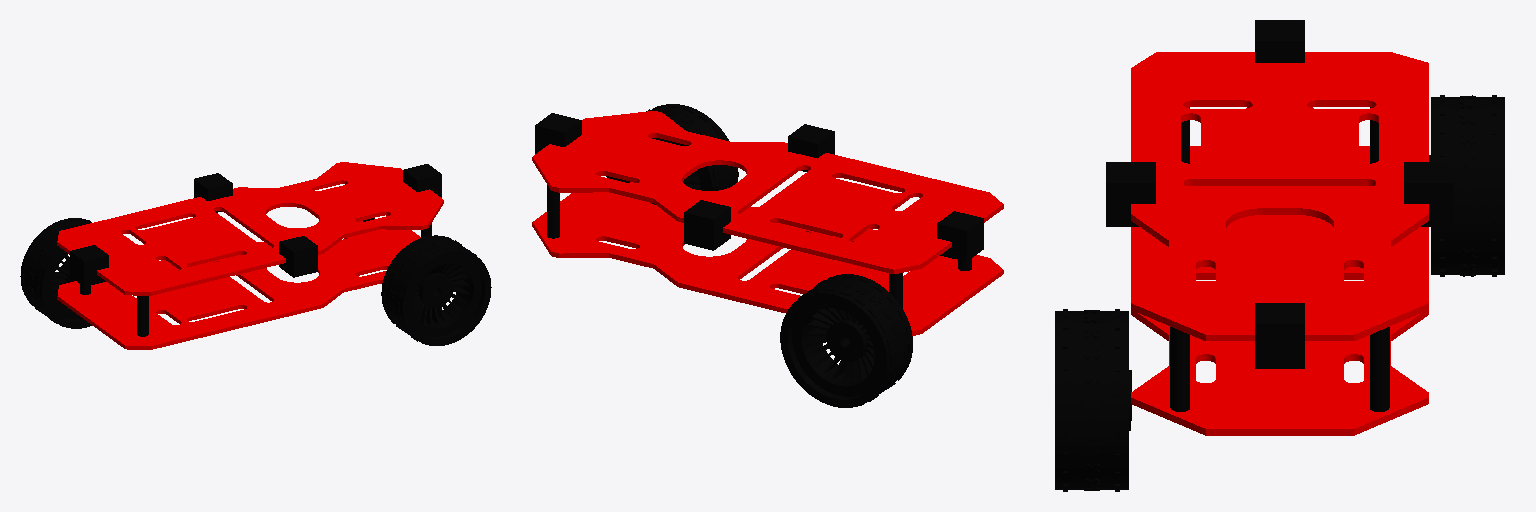
URDF robot description (ackermann_robot):
<?xml version="1.0" ?>
<!-- =================================================================================== -->
<!-- |    This document was autogenerated by xacro from src/ackermann_robot/urdf/ackermann_robot.xacro | -->
<!-- |    EDITING THIS FILE BY HAND IS NOT RECOMMENDED                                 | -->
<!-- =================================================================================== -->
<robot name="ackermann_robot">
  <link name="imu_link">
    <inertial>
      <mass value="0.001"/>
      <inertia ixx="1e-6" ixy="0" ixz="0" iyy="1e-6" iyz="0" izz="1e-6"/>
    </inertial>
  </link>
  <joint name="imu_joint" type="fixed">
    <parent link="base_link"/>
    <child link="imu_link"/>
    <origin rpy="0 0 0" xyz="0 0 0.05"/>
  </joint>
  <gazebo reference="imu_joint">
    <preserveFixedJoint>true</preserveFixedJoint>
  </gazebo>
  <gazebo reference="imu_link">
    <sensor name="imu_sensor" type="imu">
      <always_on>1</always_on>
      <update_rate>1000</update_rate>
      <topic>/imu</topic>
    </sensor>
  </gazebo>
  <link name="front_camera_link">
    <visual>
      <origin rpy="0 0 0" xyz="0 0 0"/>
      <geometry>
        <box size="0.02 0.02 0.02"/>
      </geometry>
      <material name="wheel_black"/>
    </visual>
  </link>
  <joint name="front_camera_joint" type="fixed">
    <parent link="base_link"/>
    <child link="front_camera_link"/>
    <origin rpy="0.0 0.0 0.0" xyz="0.135 0.0 0.08"/>
  </joint>
  <gazebo reference="front_camera_link">
    <sensor name="front_camera" type="camera">
      <camera>
        <horizontal_fov>3.14159</horizontal_fov>
        <image>
          <width>800</width>
          <height>800</height>
          <format>R8G8B8</format>
        </image>
        <clip>
          <near>0.1</near>
          <far>100</far>
        </clip>
        <lens>
          <type>fisheye</type>
          <scale_to_hfov>true</scale_to_hfov>
          <mapping>equidistant</mapping>
        </lens>
      </camera>
      <always_on>1</always_on>
      <update_rate>30</update_rate>
      <visualize>true</visualize>
      <topic>front_camera/image</topic>
    </sensor>
  </gazebo>
  <!-- fx="774.65" fy="776.83" cx="400" cy="400"
    k1="-0.01948" k2="-0.00302" k3="-0.00063" p1="0.00009" /> -->
  <link name="left_camera_link">
    <visual>
      <origin rpy="0 0 0" xyz="0 0 0"/>
      <geometry>
        <box size="0.02 0.02 0.02"/>
      </geometry>
      <material name="wheel_black"/>
    </visual>
  </link>
  <joint name="left_camera_joint" type="fixed">
    <parent link="base_link"/>
    <child link="left_camera_link"/>
    <origin rpy="0.0 0.0 1.5708" xyz="0.0 0.06025 0.08"/>
  </joint>
  <gazebo reference="left_camera_link">
    <sensor name="left_camera" type="camera">
      <camera>
        <horizontal_fov>3.14159</horizontal_fov>
        <image>
          <width>800</width>
          <height>800</height>
          <format>R8G8B8</format>
        </image>
        <clip>
          <near>0.1</near>
          <far>100</far>
        </clip>
        <lens>
          <type>fisheye</type>
          <scale_to_hfov>true</scale_to_hfov>
          <mapping>equidistant</mapping>
        </lens>
      </camera>
      <always_on>1</always_on>
      <update_rate>30</update_rate>
      <visualize>true</visualize>
      <topic>left_camera/image</topic>
    </sensor>
  </gazebo>
  <!-- fx="413.44" fy="414.56" cx="625.46" cy="393.99"
    k1="0.2422" k2="0.5059" k3="-0.4873" p1="0.1775" /> -->
  <link name="right_camera_link">
    <visual>
      <origin rpy="0 0 0" xyz="0 0 0"/>
      <geometry>
        <box size="0.02 0.02 0.02"/>
      </geometry>
      <material name="wheel_black"/>
    </visual>
  </link>
  <joint name="right_camera_joint" type="fixed">
    <parent link="base_link"/>
    <child link="right_camera_link"/>
    <origin rpy="0.0 0.0 -1.5708" xyz="0.0 -0.06025 0.08"/>
  </joint>
  <gazebo reference="right_camera_link">
    <sensor name="right_camera" type="camera">
      <camera>
        <horizontal_fov>3.14159</horizontal_fov>
        <image>
          <width>800</width>
          <height>800</height>
          <format>R8G8B8</format>
        </image>
        <clip>
          <near>0.1</near>
          <far>100</far>
        </clip>
        <lens>
          <type>fisheye</type>
          <scale_to_hfov>true</scale_to_hfov>
          <mapping>equidistant</mapping>
        </lens>
      </camera>
      <always_on>1</always_on>
      <update_rate>30</update_rate>
      <visualize>true</visualize>
      <topic>right_camera/image</topic>
    </sensor>
  </gazebo>
  <!-- fx="405.08" fy="405.38" cx="642.53" cy="392.78"
    k1="0.2355" k2="0.5192" k3="-0.5069" p1="0.1963" /> -->
  <link name="rear_camera_link">
    <visual>
      <origin rpy="0 0 0" xyz="0 0 0"/>
      <geometry>
        <box size="0.02 0.02 0.02"/>
      </geometry>
      <material name="wheel_black"/>
    </visual>
  </link>
  <joint name="rear_camera_joint" type="fixed">
    <parent link="base_link"/>
    <child link="rear_camera_link"/>
    <origin rpy="0.0 0.0 3.14159" xyz="-0.135 0.0 0.08"/>
  </joint>
  <gazebo reference="rear_camera_link">
    <sensor name="rear_camera" type="camera">
      <camera>
        <horizontal_fov>3.14159</horizontal_fov>
        <image>
          <width>800</width>
          <height>800</height>
          <format>R8G8B8</format>
        </image>
        <clip>
          <near>0.1</near>
          <far>100</far>
        </clip>
        <lens>
          <type>fisheye</type>
          <scale_to_hfov>true</scale_to_hfov>
          <mapping>equidistant</mapping>
        </lens>
      </camera>
      <always_on>1</always_on>
      <update_rate>30</update_rate>
      <visualize>true</visualize>
      <topic>rear_camera/image</topic>
    </sensor>
  </gazebo>
  <!-- fx="399.45" fy="399.77" cx="623.44" cy="387.16"
    k1="0.2565" k2="0.4095" k3="-0.3257" p1="0.1022" /> -->
  <!-- <xacro:sensor_camera name="front_camera" parent="base_link">
    <origin xyz="0.135 0 0.072" rpy="0 0.0 0"/>
  </xacro:sensor_camera>

  <xacro:sensor_camera name="rear_camera" parent="base_link">
    <origin xyz="-0.135 0 0.072" rpy="0 0.0 ${pi}"/>
  </xacro:sensor_camera>

  <xacro:sensor_camera name="left_camera" parent="base_link">
    <origin xyz="0.0 0.06025 0.072" rpy="0 0.0 ${pi/2}"/>
  </xacro:sensor_camera>

  <xacro:sensor_camera name="right_camera" parent="base_link">
    <origin xyz="0.0 -0.06025 0.072" rpy="0 0.0 ${-pi/2}"/>
  </xacro:sensor_camera> -->
  <!-- ===================== -->
  <!-- Real hardware values  -->
  <!-- ===================== -->
  <!-- <xacro:property name="pi" value="3.1415926535897932384626"/> -->
  <!-- Materials -->
  <material name="chassis_red">
    <color rgba="1.0 0.0 0.0 1"/>
  </material>
  <material name="wheel_black">
    <color rgba="0.05 0.05 0.05 1"/>
  </material>
  <!-- ===================== -->
  <!-- Base frame            -->
  <!-- ===================== -->
  <!-- Robot center reference -->
  <link name="base_link"/>
  <!-- ===================== -->
  <!-- Chassis               -->
  <!-- ===================== -->
  <link name="chassis_link">
    <inertial>
      <origin xyz="0 0 0.022"/>
      <mass value="0.13442"/>
      <inertia ixx="1.50903123e-04" ixy="4.70052075e-08" ixz="6.59784866e-15" iyy="8.14177826e-04" iyz="1.01460270e-15" izz="9.64991335e-04"/>
    </inertial>
    <!-- Bottom plate -->
    <visual>
      <origin rpy="0 0 0" xyz="0 0 0.037"/>
      <geometry>
        <mesh filename="package://ackermann_robot/meshes/chassis_visual.stl" scale="0.001 0.001 0.001"/>
      </geometry>
      <material name="chassis_red"/>
    </visual>
    <!-- Top plate -->
    <visual>
      <origin rpy="0 0 0" xyz="0 0 0.079"/>
      <geometry>
        <mesh filename="package://ackermann_robot/meshes/chassis_visual.stl" scale="0.001 0.001 0.001"/>
      </geometry>
      <material name="chassis_red"/>
    </visual>
    <!-- Front left standoff -->
    <visual>
      <origin rpy="0 0 0" xyz="0.115 0.040249999999999994 0.057999999999999996"/>
      <geometry>
        <cylinder length="0.04" radius="0.004"/>
      </geometry>
      <material name="wheel_black"/>
    </visual>
    <!-- Front right -->
    <visual>
      <origin rpy="0 0 0" xyz="0.115 -0.040249999999999994 0.057999999999999996"/>
      <geometry>
        <cylinder length="0.04" radius="0.004"/>
      </geometry>
      <material name="wheel_black"/>
    </visual>
    <!-- Rear left -->
    <visual>
      <origin rpy="0 0 0" xyz="-0.115 0.040249999999999994 0.057999999999999996"/>
      <geometry>
        <cylinder length="0.04" radius="0.004"/>
      </geometry>
      <material name="wheel_black"/>
    </visual>
    <!-- Rear right -->
    <visual>
      <origin rpy="0 0 0" xyz="-0.115 -0.040249999999999994 0.057999999999999996"/>
      <geometry>
        <cylinder length="0.04" radius="0.004"/>
      </geometry>
      <material name="wheel_black"/>
    </visual>
    <!-- Collision: simple box for stable physics -->
    <collision>
      <origin xyz="0 0 0.057999999999999996"/>
      <geometry>
        <box size="0.27 0.1205 0.044"/>
      </geometry>
    </collision>
  </link>
  <!-- base → chassis -->
  <joint name="base_to_chassis" type="fixed">
    <parent link="base_link"/>
    <child link="chassis_link"/>
    <origin rpy="0 0 0" xyz="0 0 0"/>
  </joint>
  <!-- ===================== -->
  <!-- Wheel placement       -->
  <!-- ===================== -->
  <!-- Wheel -->
  <link name="rear_left_wheel_link">
    <inertial>
      <mass value="0.0677"/>
      <inertia ixx="3.21561728e-05" ixy="1.40375656e-15" ixz="-3.63476706e-15" iyy="5.65938896e-05" iyz="-1.35718707e-16" izz="3.21561633e-05"/>
    </inertial>
    <visual>
      <origin rpy=" 0 0 3.1412"/>
      <geometry>
        <mesh filename="package://ackermann_robot/meshes/rear_left_wheel.stl" scale="0.001 0.001 0.001"/>
      </geometry>
      <material name="wheel_black"/>
    </visual>
    <collision>
      <origin rpy="1.5708 0 0"/>
      <geometry>
        <cylinder length="0.03" radius="0.036"/>
      </geometry>
    </collision>
  </link>
  <!-- Gazebo friction for wheels -->
  <gazebo reference="rear_left_wheel_link">
    <mu1>1.0</mu1>
    <mu2>1.0</mu2>
  </gazebo>
  <joint name="rear_left_wheel_joint" type="continuous">
    <parent link="chassis_link"/>
    <child link="rear_left_wheel_link"/>
    <origin xyz="-0.1025 0.076 0.036"/>
    <axis xyz="0 1 0"/>
  </joint>
  <!-- Wheel -->
  <link name="rear_right_wheel_link">
    <inertial>
      <mass value="0.0677"/>
      <inertia ixx="3.21561728e-05" ixy="1.40375656e-15" ixz="-3.63476706e-15" iyy="5.65938896e-05" iyz="-1.35718707e-16" izz="3.21561633e-05"/>
    </inertial>
    <visual>
      <origin rpy=" 0 0 3.1412"/>
      <geometry>
        <mesh filename="package://ackermann_robot/meshes/rear_right_wheel.stl" scale="0.001 0.001 0.001"/>
      </geometry>
      <material name="wheel_black"/>
    </visual>
    <collision>
      <origin rpy="1.5708 0 0"/>
      <geometry>
        <cylinder length="0.03" radius="0.036"/>
      </geometry>
    </collision>
  </link>
  <!-- Gazebo friction for wheels -->
  <gazebo reference="rear_right_wheel_link">
    <mu1>1.0</mu1>
    <mu2>1.0</mu2>
  </gazebo>
  <joint name="rear_right_wheel_joint" type="continuous">
    <parent link="chassis_link"/>
    <child link="rear_right_wheel_link"/>
    <origin xyz="-0.1025 -0.076 0.036"/>
    <axis xyz="0 1 0"/>
  </joint>
  <!-- steering knuckle -->
  <link name="front_left_steer_link">
    <inertial>
      <origin xyz="0 0 0"/>
      <mass value="0.01"/>
      <inertia ixx="1e-5" ixy="0" ixz="0" iyy="1e-5" iyz="0" izz="1e-5"/>
    </inertial>
  </link>
  <joint name="front_left_steer_joint" type="revolute">
    <parent link="chassis_link"/>
    <child link="front_left_steer_link"/>
    <origin xyz="0.1025 0.076 0.036"/>
    <axis xyz="0 0 1"/>
    <limit effort="10" lower="-0.6" upper="0.6" velocity="2"/>
  </joint>
  <!-- wheel -->
  <link name="front_left_wheel_link">
    <inertial>
      <mass value="0.0677"/>
      <inertia ixx="3e-5" ixy="0" ixz="0" iyy="3e-5" iyz="0" izz="3e-5"/>
    </inertial>
    <visual>
      <origin rpy="0 0 3.1412"/>
      <geometry>
        <!-- <cylinder radius="${wheel_radius}" length="${wheel_width}"/> -->
        <mesh filename="package://ackermann_robot/meshes/front_left_wheel.stl" scale="0.001 0.001 0.001"/>
      </geometry>
      <material name="wheel_black"/>
    </visual>
    <collision>
      <origin rpy="1.5708 0 0"/>
      <geometry>
        <cylinder length="0.03" radius="0.036"/>
      </geometry>
    </collision>
  </link>
  <!-- Gazebo friction for wheels -->
  <gazebo reference="front_left_wheel_link">
    <mu1>1.0</mu1>
    <mu2>1.0</mu2>
  </gazebo>
  <joint name="front_left_wheel_joint" type="continuous">
    <parent link="front_left_steer_link"/>
    <child link="front_left_wheel_link"/>
    <axis xyz="0 1 0"/>
  </joint>
  <!-- steering knuckle -->
  <link name="front_right_steer_link">
    <inertial>
      <origin xyz="0 0 0"/>
      <mass value="0.01"/>
      <inertia ixx="1e-5" ixy="0" ixz="0" iyy="1e-5" iyz="0" izz="1e-5"/>
    </inertial>
  </link>
  <joint name="front_right_steer_joint" type="revolute">
    <parent link="chassis_link"/>
    <child link="front_right_steer_link"/>
    <origin xyz="0.1025 -0.076 0.036"/>
    <axis xyz="0 0 1"/>
    <limit effort="10" lower="-0.6" upper="0.6" velocity="2"/>
  </joint>
  <!-- wheel -->
  <link name="front_right_wheel_link">
    <inertial>
      <mass value="0.0677"/>
      <inertia ixx="3e-5" ixy="0" ixz="0" iyy="3e-5" iyz="0" izz="3e-5"/>
    </inertial>
    <visual>
      <origin rpy="0 0 3.1412"/>
      <geometry>
        <!-- <cylinder radius="${wheel_radius}" length="${wheel_width}"/> -->
        <mesh filename="package://ackermann_robot/meshes/front_right_wheel.stl" scale="0.001 0.001 0.001"/>
      </geometry>
      <material name="wheel_black"/>
    </visual>
    <collision>
      <origin rpy="1.5708 0 0"/>
      <geometry>
        <cylinder length="0.03" radius="0.036"/>
      </geometry>
    </collision>
  </link>
  <!-- Gazebo friction for wheels -->
  <gazebo reference="front_right_wheel_link">
    <mu1>1.0</mu1>
    <mu2>1.0</mu2>
  </gazebo>
  <joint name="front_right_wheel_joint" type="continuous">
    <parent link="front_right_steer_link"/>
    <child link="front_right_wheel_link"/>
    <axis xyz="0 1 0"/>
  </joint>
  <!-- ===================== -->
  <!-- Gazebo plugins        -->
  <!-- ===================== -->
  <!-- Physics properties for chassis -->
  <gazebo reference="chassis_link">
    <mu1>0.8</mu1>
    <mu2>0.8</mu2>
  </gazebo>
  <gazebo>
    <plugin filename="gz-sim-ackermann-steering-system" name="gz::sim::systems::AckermannSteering">
      <left_steering_joint>front_left_steer_joint</left_steering_joint>
      <right_steering_joint>front_right_steer_joint</right_steering_joint>
      <left_joint>rear_left_wheel_joint</left_joint>
      <right_joint>rear_right_wheel_joint</right_joint>
      <wheel_base>0.205</wheel_base>
      <wheel_separation>0.152</wheel_separation>
      <kingpin_width>0.152</kingpin_width>
      <wheel_radius>0.036</wheel_radius>
      <steering_limit>0.5</steering_limit>
      <topic>/cmd_vel</topic>
      <odom_topic>/odometry</odom_topic>
      <frame_id>odom</frame_id>
      <child_frame_id>base_link</child_frame_id>
      <odom_publish_frequency>30</odom_publish_frequency>
    </plugin>
    <plugin filename="gz-sim-pose-publisher-system" name="gz::sim::systems::PosePublisher">
      <publish_link_pose>true</publish_link_pose>
      <publish_sensor_pose>true</publish_sensor_pose>
      <publish_model_pose>true</publish_model_pose>
      <use_pose_vector_msg>true</use_pose_vector_msg>
    </plugin>
    <plugin filename="gz-sim-odometry-publisher-system" name="gz::sim::systems::OdometryPublisher">
      <odom_frame>ground_truth_odom</odom_frame>
      <robot_base_frame>base_link</robot_base_frame>
      <odom_topic>/ground_truth_odom</odom_topic>
      <dimensions>3</dimensions>
    </plugin>
    <plugin filename="gz-sim-joint-state-publisher-system" name="gz::sim::systems::JointStatePublisher"/>
  </gazebo>
</robot>

--- What the picture shows (computed from the rendered views, not written in the file) ---
The picture shows the robot from 3 angles, left to right: view 1: azimuth 30°, elevation 25°; view 2: azimuth 150°, elevation 25°; view 3: azimuth 270°, elevation 25°; orthographic projection.
Robot: ackermann_robot — 13 links, 12 joints (2 revolute, 4 continuous, 6 fixed); root link base_link; default pose: every joint at zero.
Visible links, largest first — view 1: chassis_link, front_right_wheel_link, rear_left_wheel_link, right_camera_link, rear_camera_link, front_camera_link, left_camera_link; view 2: chassis_link, rear_left_wheel_link, front_right_wheel_link, left_camera_link, rear_camera_link, front_camera_link, right_camera_link; view 3: chassis_link, front_right_wheel_link, rear_left_wheel_link, front_camera_link, left_camera_link, right_camera_link, rear_camera_link.
Link boxes in pixels (box(x1,y1,x2,y2)): chassis_link: box(57, 162, 443, 349); front_right_wheel_link: box(381, 235, 491, 345); rear_left_wheel_link: box(20, 218, 91, 328); right_camera_link: box(279, 236, 317, 277); rear_camera_link: box(70, 245, 108, 286); front_camera_link: box(403, 164, 441, 197); left_camera_link: box(194, 173, 232, 212); chassis_link: box(532, 111, 1003, 335); rear_left_wheel_link: box(780, 274, 912, 407); front_right_wheel_link: box(606, 104, 738, 204); left_camera_link: box(684, 200, 730, 250); rear_camera_link: box(937, 211, 983, 261); front_camera_link: box(535, 113, 581, 153); right_camera_link: box(788, 124, 834, 171); chassis_link: box(1131, 52, 1428, 435); front_right_wheel_link: box(1055, 309, 1131, 491); rear_left_wheel_link: box(1429, 95, 1504, 276); front_camera_link: box(1255, 303, 1304, 368); left_camera_link: box(1404, 162, 1453, 226); right_camera_link: box(1106, 162, 1155, 226); rear_camera_link: box(1255, 20, 1304, 62).
Size in the robot's own frame: 0.29 by 0.182 by 0.0908 metres.
4 mesh visuals loaded from 5 distinct referenced files (3 binary STL); not drawn: 2 (file found but could not be loaded).
